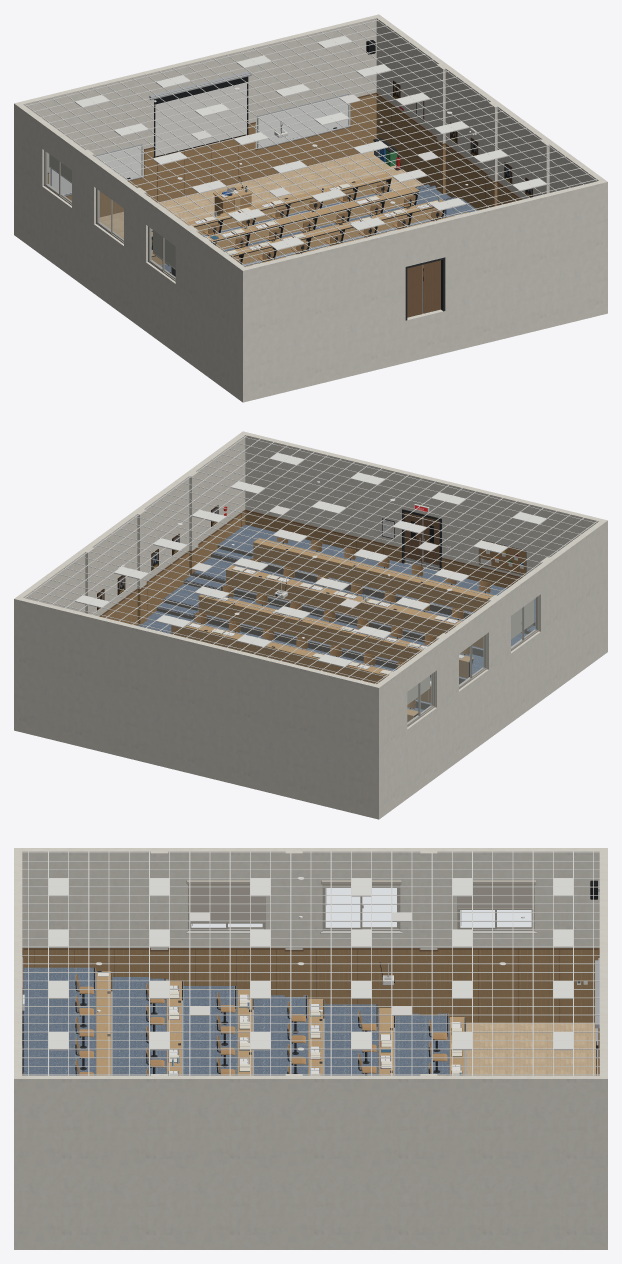
File: us_classroom.glb
The picture shows the model from 3 angles, top to bottom: view 1: azimuth 30°, elevation 25°; view 2: azimuth 150°, elevation 25°; view 3: azimuth 270°, elevation 25°; orthographic projection. The views are drawn at different scales.
Parts seen in each view (by area): view 1: WALL_S, WALL_W, WALL_ceil_grid, WALL_N, WALL_E, WALL_N_wain, desks_top, WALL_ceil_fix, WALL_E_wain, floor_stage, WALL_N_screen, WALL_N_board (+16 smaller); view 2: WALL_N, WALL_W, WALL_ceil_grid, WALL_S, desks_top, WALL_E, plat_tops, WALL_ceil_fix, plat_risers, WALL_E_wain, WALL_S_wain, seats_wood (+9 smaller); view 3: WALL_E, WALL_W, WALL_ceil_grid, WALL_W_wain, plat_tops, WALL_ceil_fix, floor_stage, WALL_W_blind, desks_top, WALL_W_pil, WALL_W_glass, EXAM_PROPS_vc (+10 smaller).
Boxes of the visible parts, box(x1,y1,x2,y2) form: WALL_S: box(245, 181, 602, 400); WALL_W: box(14, 102, 248, 402); WALL_ceil_grid: box(24, 18, 597, 266); WALL_N: box(20, 15, 376, 185); WALL_E: box(374, 14, 607, 314); WALL_N_wain: box(47, 94, 376, 217); desks_top: box(123, 173, 468, 273); WALL_ceil_fix: box(75, 36, 546, 250); WALL_E_wain: box(376, 94, 520, 210); floor_stage: box(99, 151, 423, 237); WALL_N_screen: box(155, 83, 246, 156); WALL_N_board: box(52, 95, 348, 194); WALL_N: box(19, 598, 376, 817); WALL_W: box(373, 519, 607, 819); WALL_ceil_grid: box(24, 435, 597, 683); WALL_S: box(245, 432, 601, 576); desks_top: box(171, 538, 493, 722); WALL_E: box(14, 431, 247, 731); plat_tops: box(137, 524, 535, 712); WALL_ceil_fix: box(75, 453, 546, 667); plat_risers: box(156, 546, 535, 709); WALL_E_wain: box(101, 511, 245, 625); WALL_S_wain: box(245, 511, 520, 588); seats_wood: box(195, 537, 490, 708); WALL_E: box(14, 1075, 607, 1249); WALL_W: box(14, 848, 607, 980); WALL_ceil_grid: box(22, 851, 599, 1075); WALL_W_wain: box(23, 949, 598, 1022); plat_tops: box(23, 967, 449, 1075); WALL_ceil_fix: box(49, 878, 572, 1050); floor_stage: box(466, 1022, 598, 1075); WALL_W_blind: box(186, 880, 535, 922); desks_top: box(96, 971, 464, 1075); WALL_W_pil: box(151, 851, 437, 949); WALL_W_glass: box(191, 888, 531, 927); EXAM_PROPS_vc: box(168, 985, 462, 1075).
Bounding box in the file's own units: 16.25 × 5.6 × 17.65.
29 materials, 13 textured.
